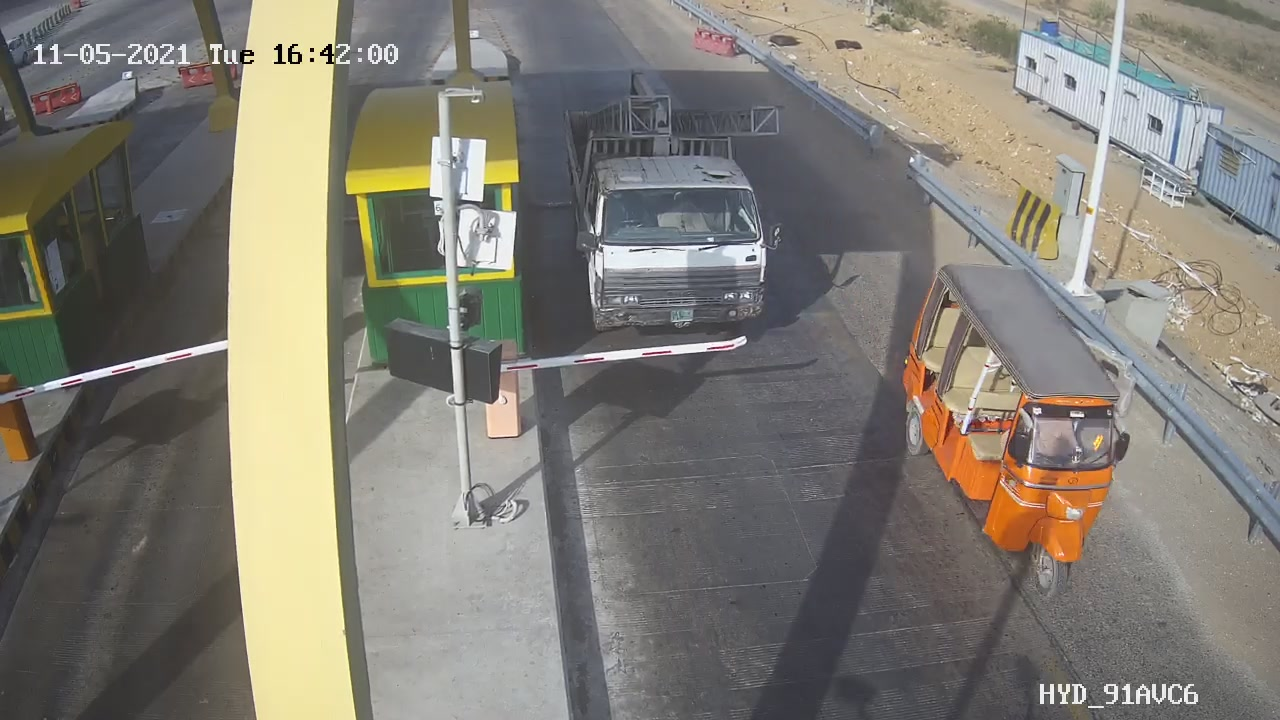F3: (553, 60, 804, 344)
